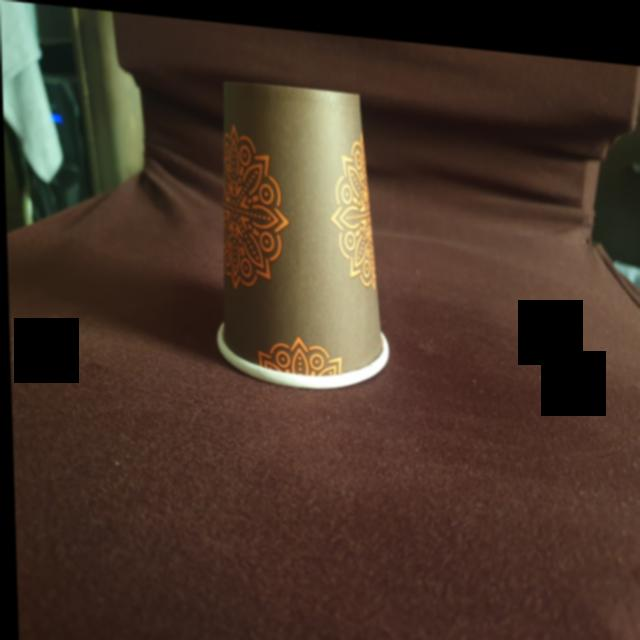cups: (204, 66, 391, 390)
